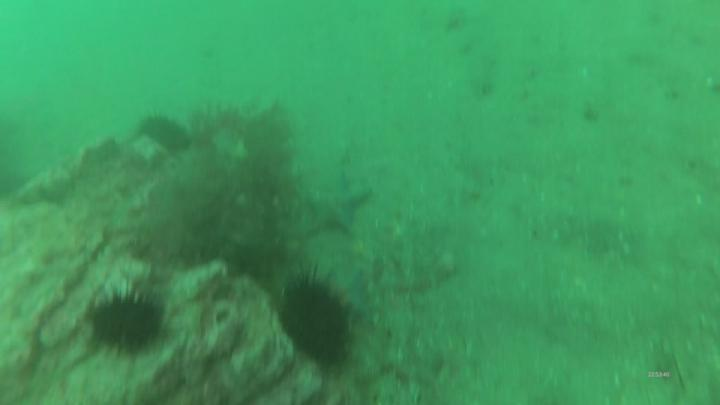echinus: (283, 281, 350, 369), (92, 302, 163, 345), (141, 114, 194, 153)
starfish: (301, 180, 370, 233), (330, 271, 371, 315)
